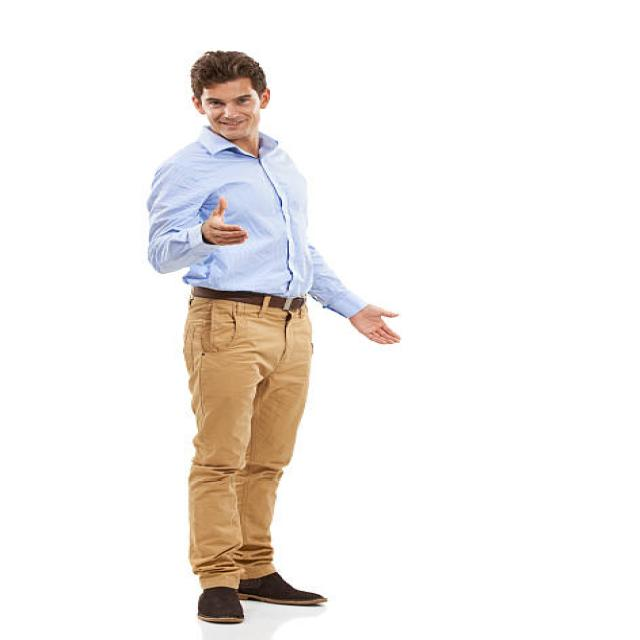Edited images: (130, 38, 409, 630)
